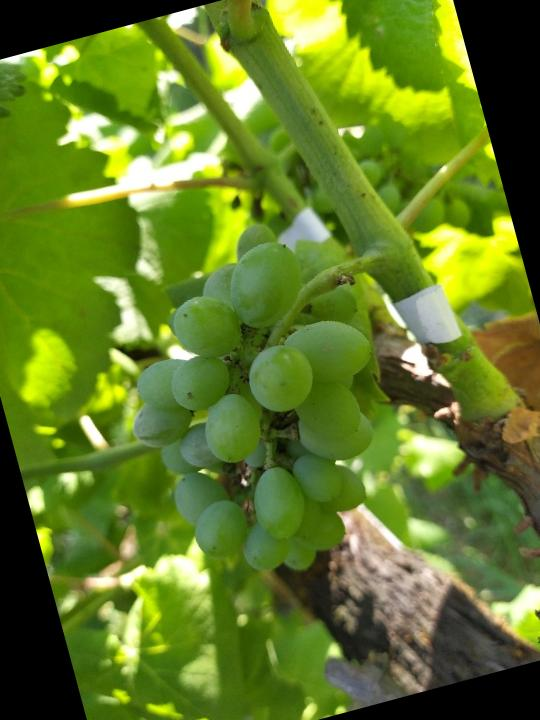grape: (88, 202, 423, 608)
